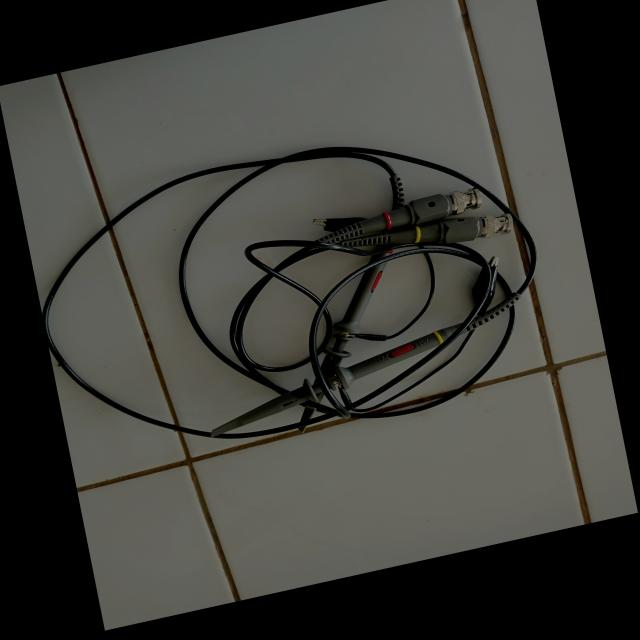CRO Probes: (19, 90, 562, 500)
